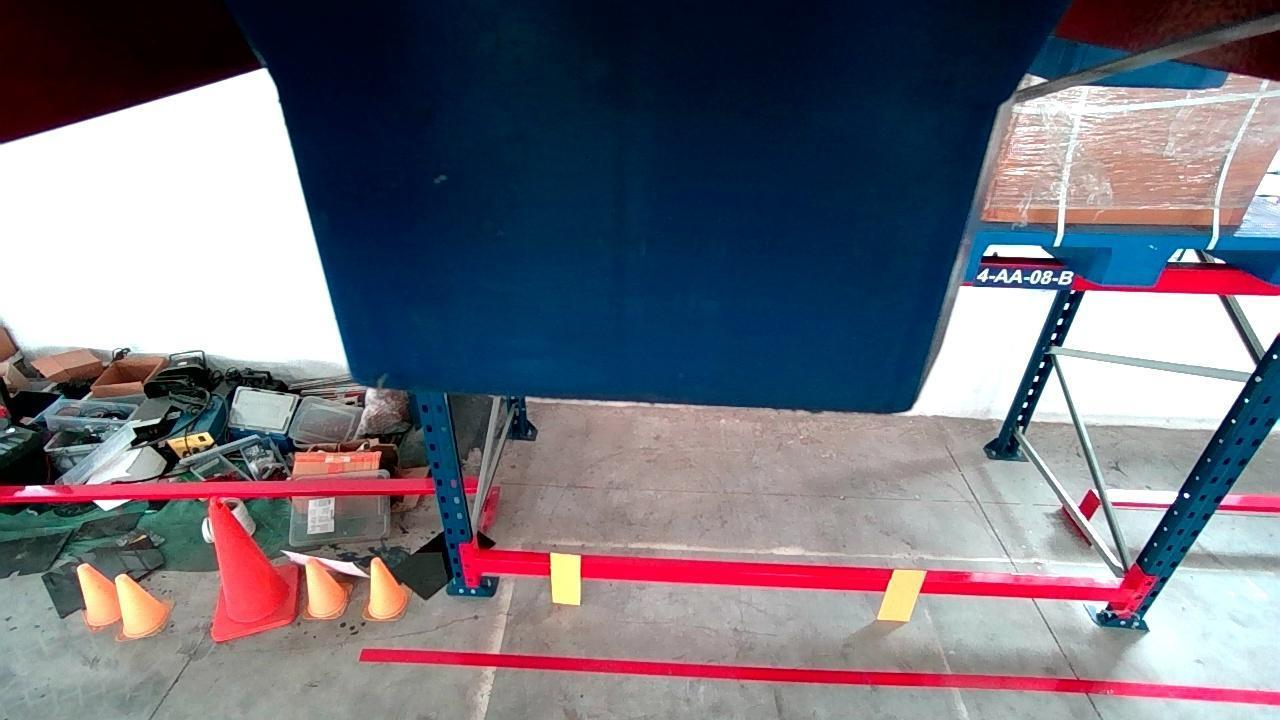h_rack: (480, 548, 1130, 603)
orange_strip: (876, 569, 927, 621), (552, 554, 580, 604)
red_line: (357, 647, 1280, 703)
small_pallet: (963, 219, 1280, 285)
